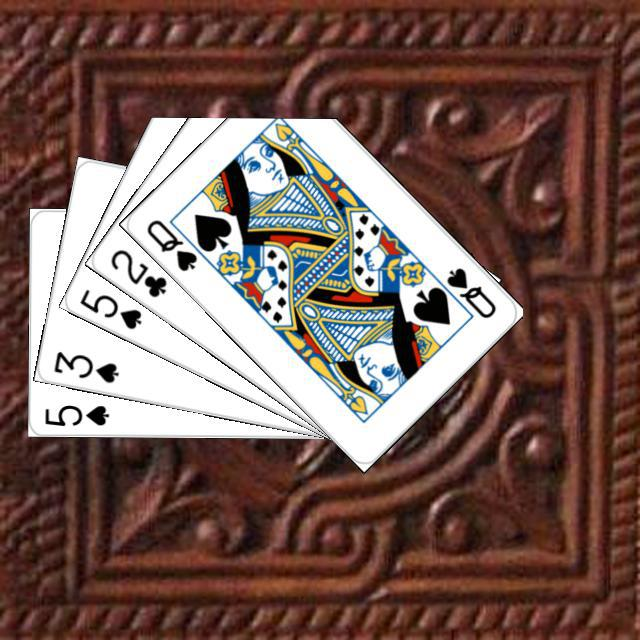2c: (105, 244, 169, 300)
3s: (49, 346, 121, 385)
5s: (74, 284, 144, 331), (40, 400, 111, 428)
Qs: (141, 214, 199, 273), (441, 262, 498, 320)
